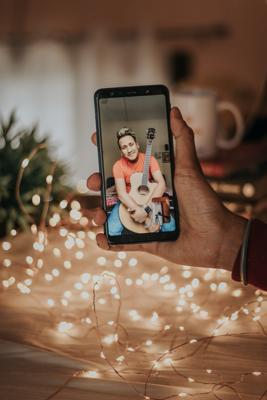Mobile Phone: (92, 83, 180, 246)
